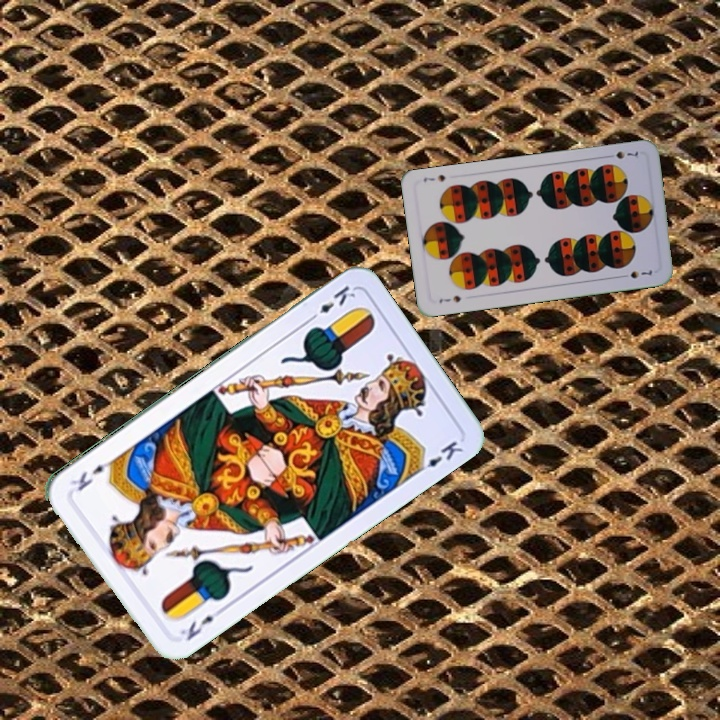EK: (304, 281, 358, 325), (176, 604, 226, 644)
S7: (602, 147, 641, 162), (435, 291, 463, 306)
